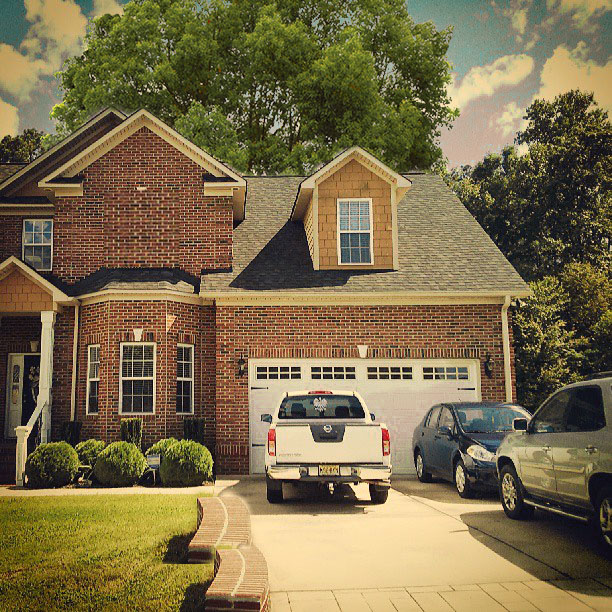copymove: (187, 495, 254, 560)
removal: (103, 151, 174, 270)
spliced: (55, 2, 459, 175)
